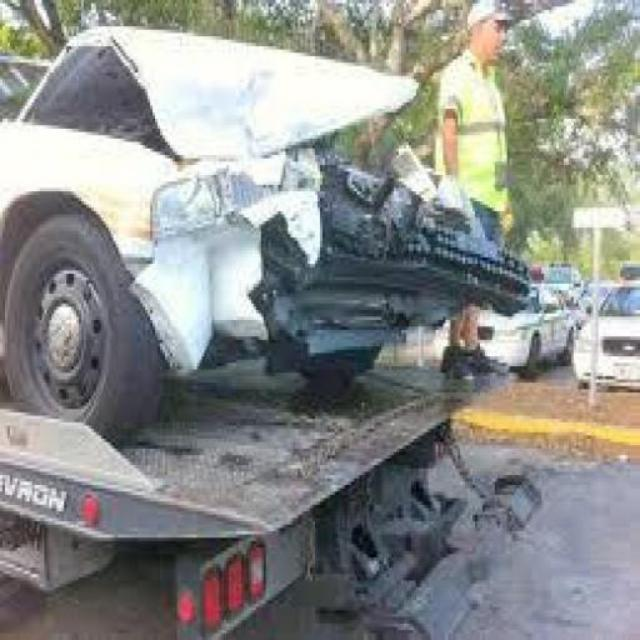dislocated part: (12, 31, 424, 162)
no part: (248, 164, 531, 345)
